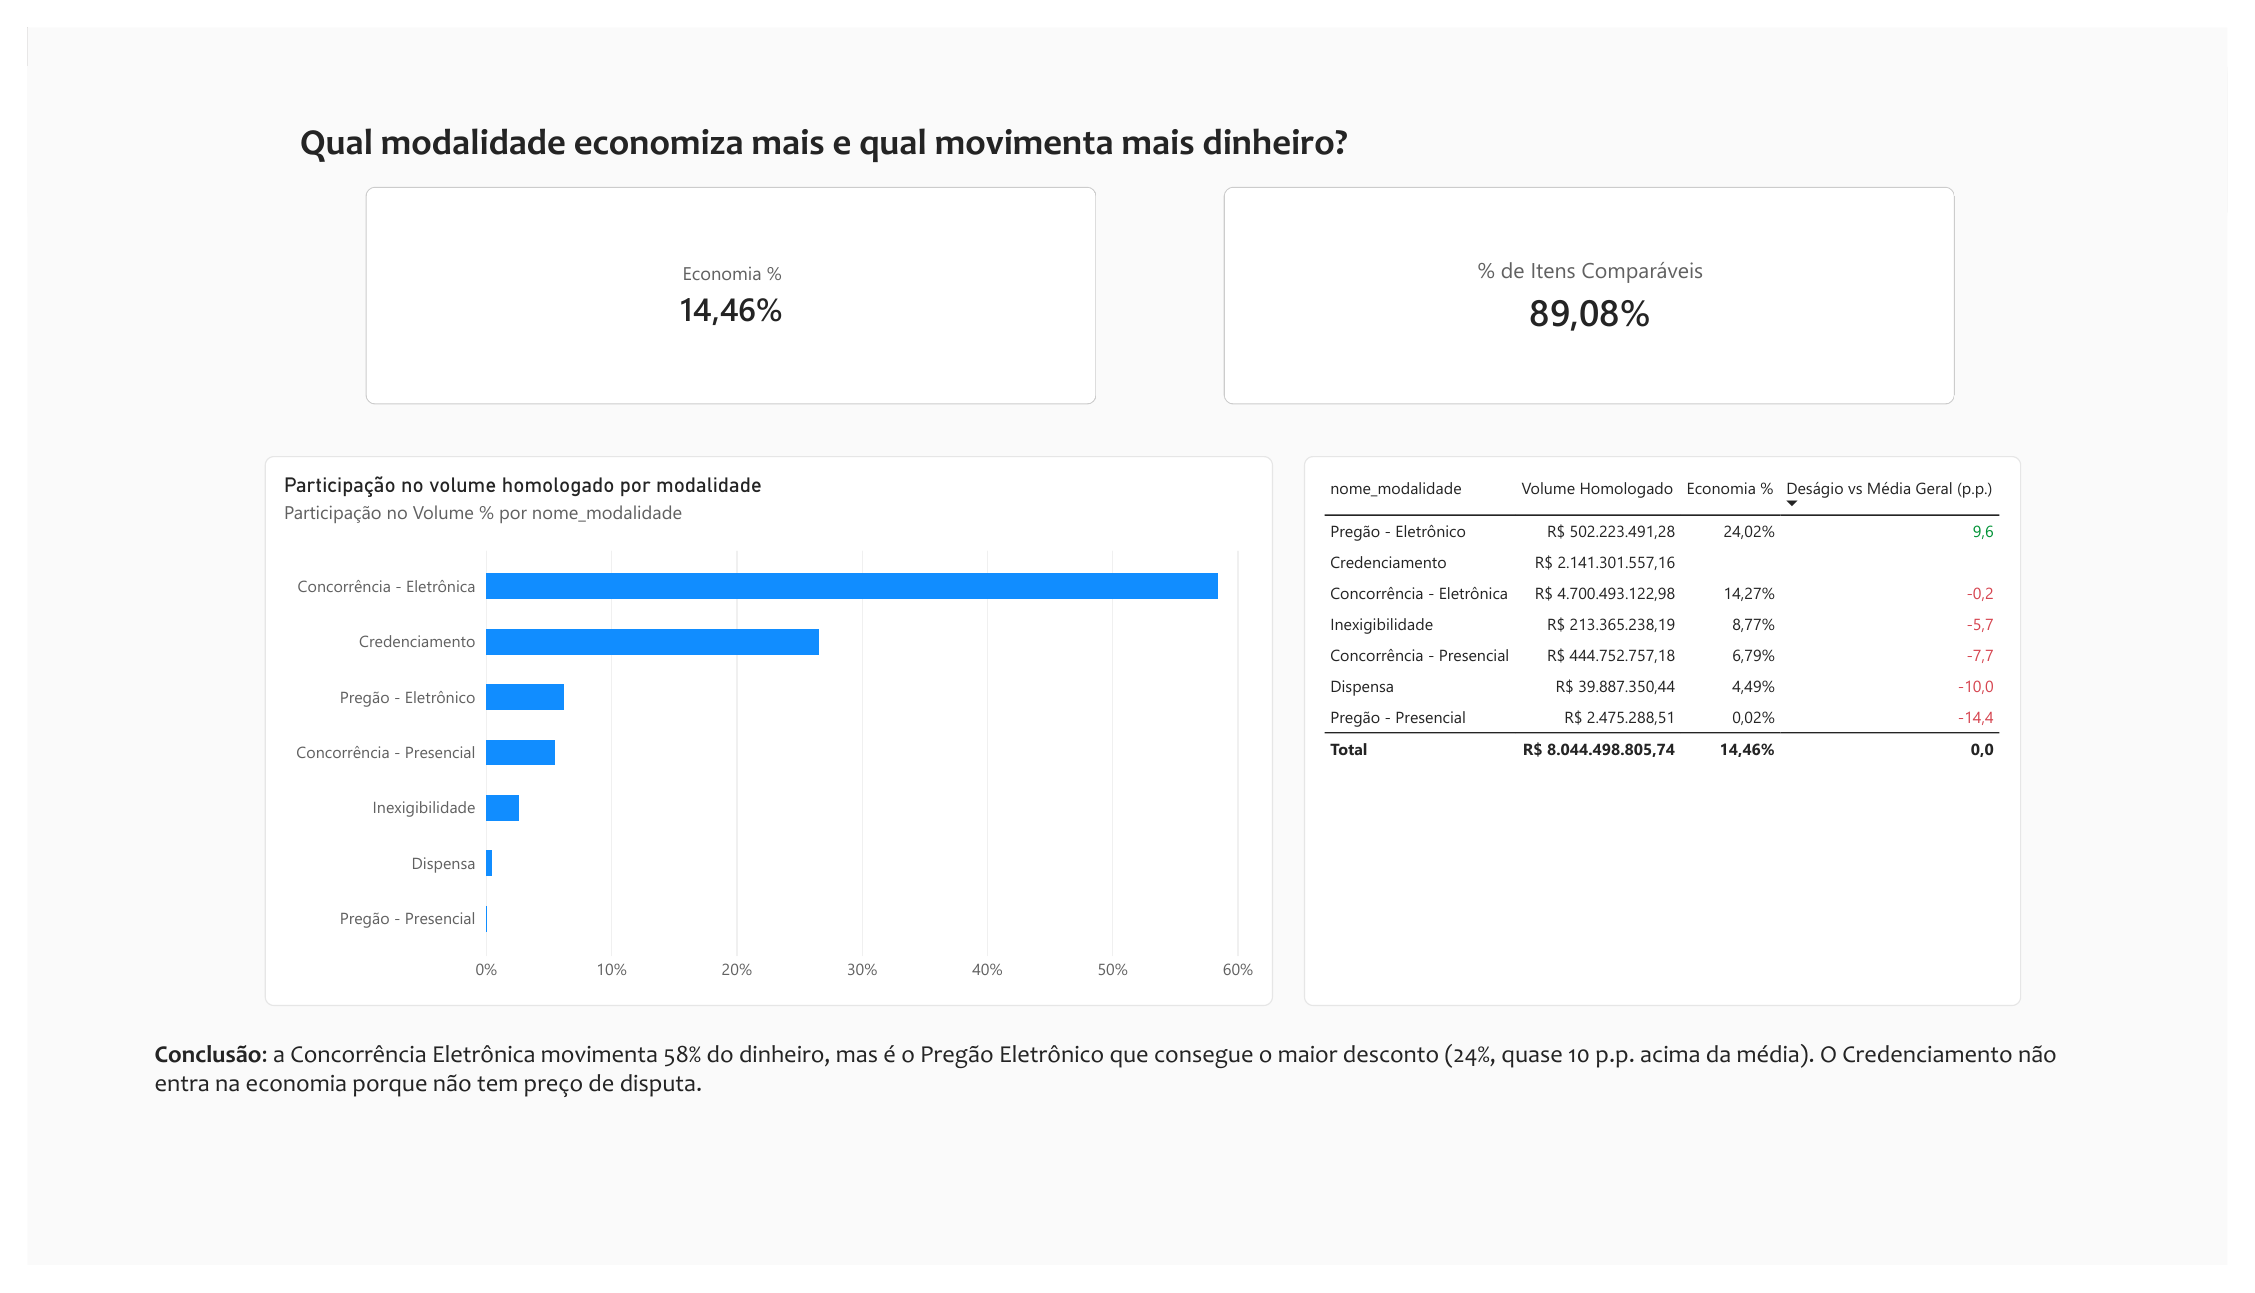

The dashboard page shown, as its layout file describes it:
{"tool":"powerbi","page":{"name":"P3 Modalidades","canvas":[1920,1080],"ordinal":2},"visuals":[{"type":"textbox","box":[238.3,80.6,992.6,65.1],"z":0},{"type":"cardVisual","fields":{"Data":["Medidas.Economia %"]},"box":[294.9,138.9,637.7,190.3],"z":1000},{"type":"cardVisual","fields":{"Data":["Medidas.% de Itens Comparáveis"]},"box":[1044,138.9,637.7,190.3],"z":2000},{"type":"textbox","box":[111.4,882.9,1695.4,101.1],"z":3000},{"type":"tableEx","fields":{"Values":["dim_modalidade.nome_modalidade","Medidas.Volume Homologado","Medidas.Economia %","Medidas.Deságio vs Média Geral (p.p.)"]},"box":[1114.3,373.7,625.7,480],"z":4000},{"type":"clusteredBarChart","title":"Participação no volume homologado por modalidade","fields":{"Category":["dim_modalidade.nome_modalidade"],"Y":["Medidas.Participação no Volume %"]},"box":[207.4,373.7,879.4,480],"z":5000},{"type":"actionButton","title":"Botao abrir","box":[200.6,0,58.3,39.4],"z":6000}]}

Visuals, with their boxes in screenshot pixels (x1, y1, x2, y2), scaled from the page's 1920x1080 canvas onto the 2255x1293 screenshot:
textbox: x1=280 y1=96 x2=1446 y2=174
cardVisual - Medidas.Economia %: x1=346 y1=166 x2=1095 y2=394
cardVisual - Medidas.% de Itens Comparáveis: x1=1226 y1=166 x2=1975 y2=394
textbox: x1=131 y1=1057 x2=2122 y2=1178
tableEx - dim_modalidade.nome_modalidade x Medidas.Volume Homologado: x1=1309 y1=447 x2=2044 y2=1022
"Participação no volume homologado por modalidade" clusteredBarChart: x1=244 y1=447 x2=1276 y2=1022
"Botao abrir" actionButton: x1=236 y1=0 x2=304 y2=47
